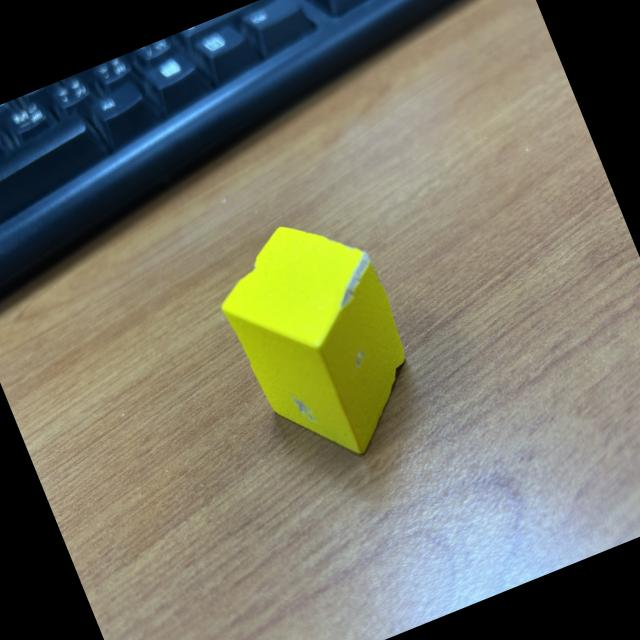broken: (200, 198, 439, 482)
